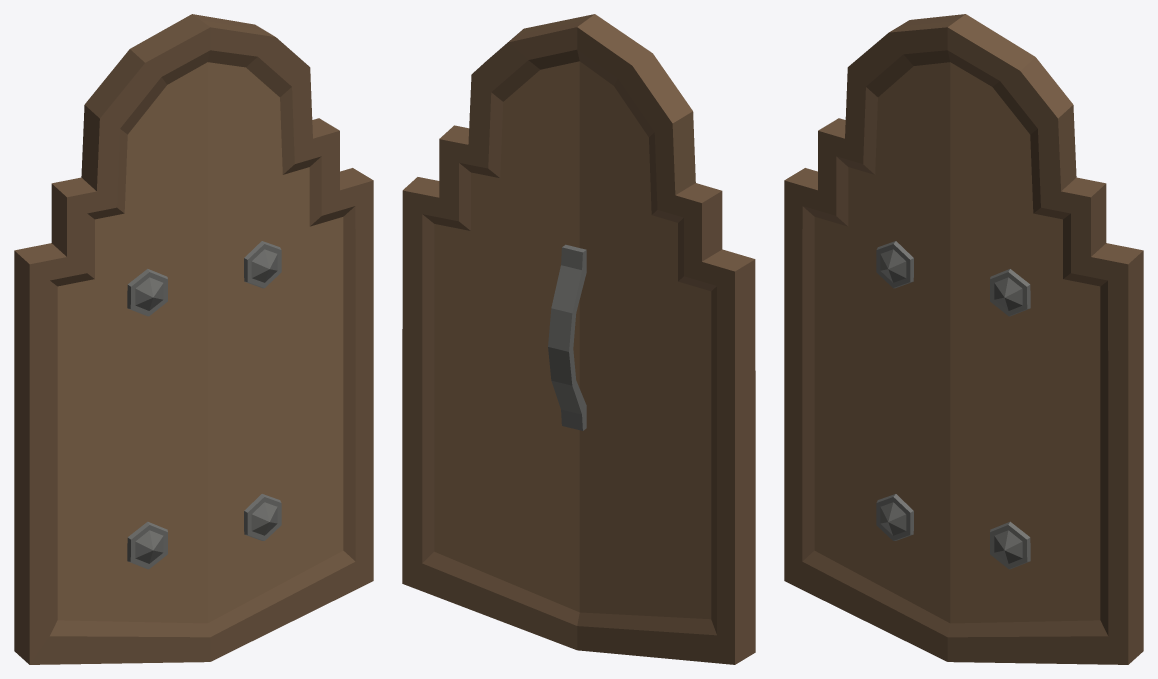
Rendered from SM_pwe_china_shield_04.fbx.
The picture shows the model from 3 angles, left to right: view 1: azimuth 30°, elevation 25°; view 2: azimuth 150°, elevation 25°; view 3: azimuth 330°, elevation 25°; orthographic projection.
Visible parts, largest first — view 1: SM_pwe_china_shield_04; view 2: SM_pwe_china_shield_04; view 3: SM_pwe_china_shield_04.
Part boxes in pixels (box(x1,y1,x2,y2)): SM_pwe_china_shield_04: box(14, 14, 373, 664); SM_pwe_china_shield_04: box(402, 14, 755, 664); SM_pwe_china_shield_04: box(784, 14, 1143, 664).
Size of the model in its own units: 43.47 by 76.58 by 8.1.
